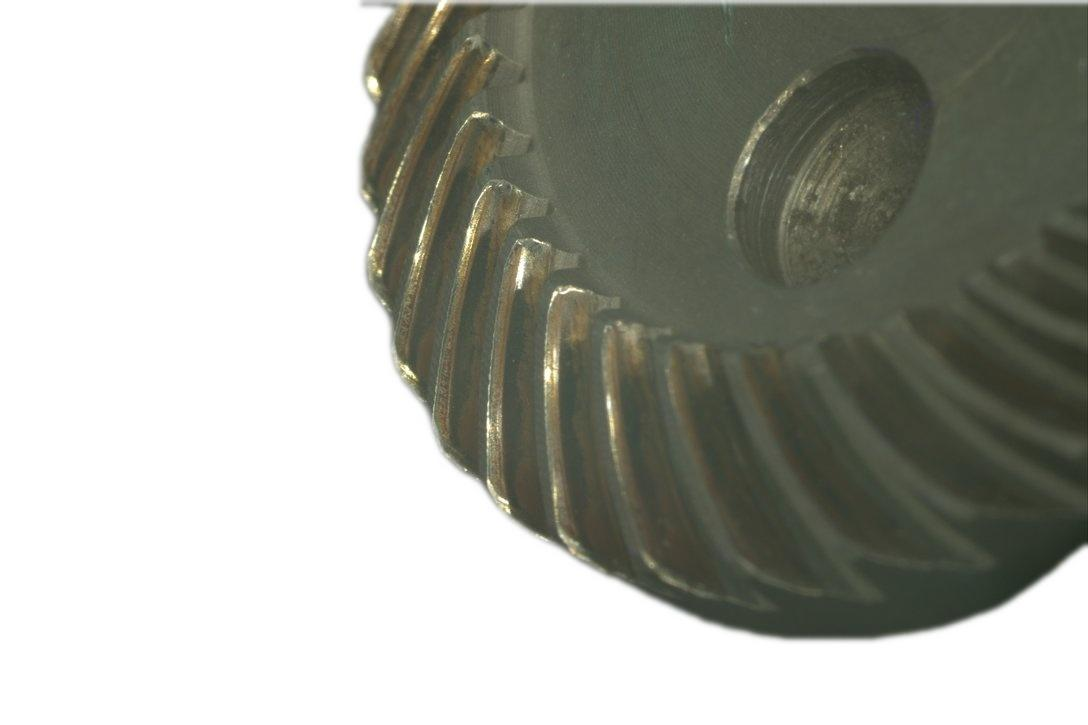defect: (739, 351, 919, 562), (665, 347, 803, 591), (386, 106, 499, 387), (360, 47, 478, 281), (601, 321, 692, 599), (429, 172, 512, 458), (475, 230, 544, 516), (353, 5, 455, 195), (536, 283, 583, 562), (362, 2, 420, 93)
